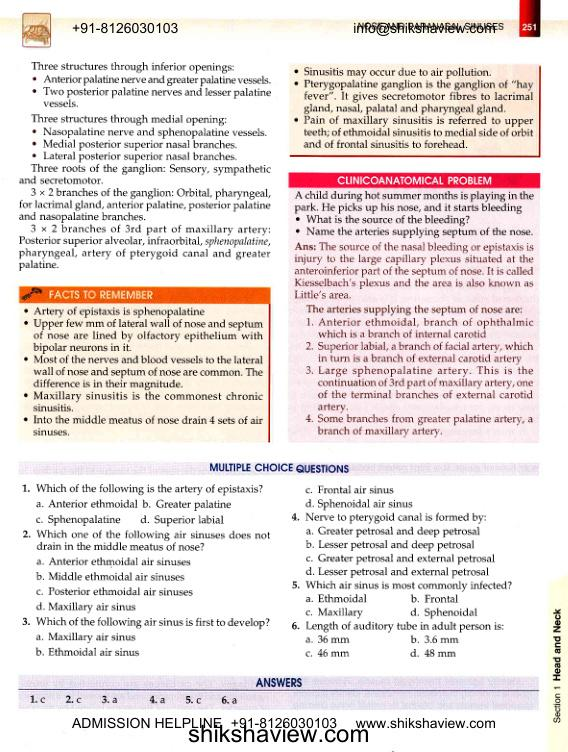caption: (336, 175, 493, 186), (47, 289, 154, 300)
list: (21, 305, 265, 439), (303, 316, 536, 439), (292, 64, 534, 150), (29, 126, 269, 163), (30, 73, 273, 109), (295, 214, 534, 240)
text: (17, 163, 272, 272), (293, 240, 535, 316), (293, 189, 535, 214), (30, 112, 228, 127), (29, 60, 234, 74)
